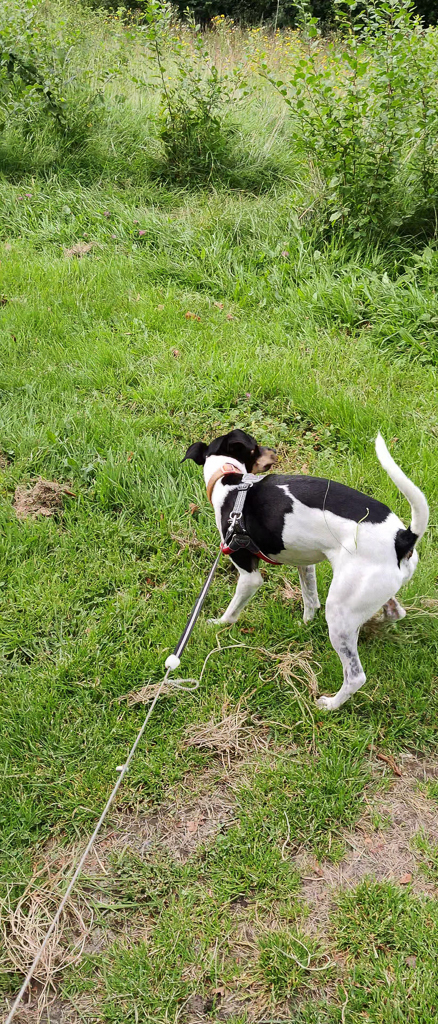Dog: (169, 416, 434, 722)
